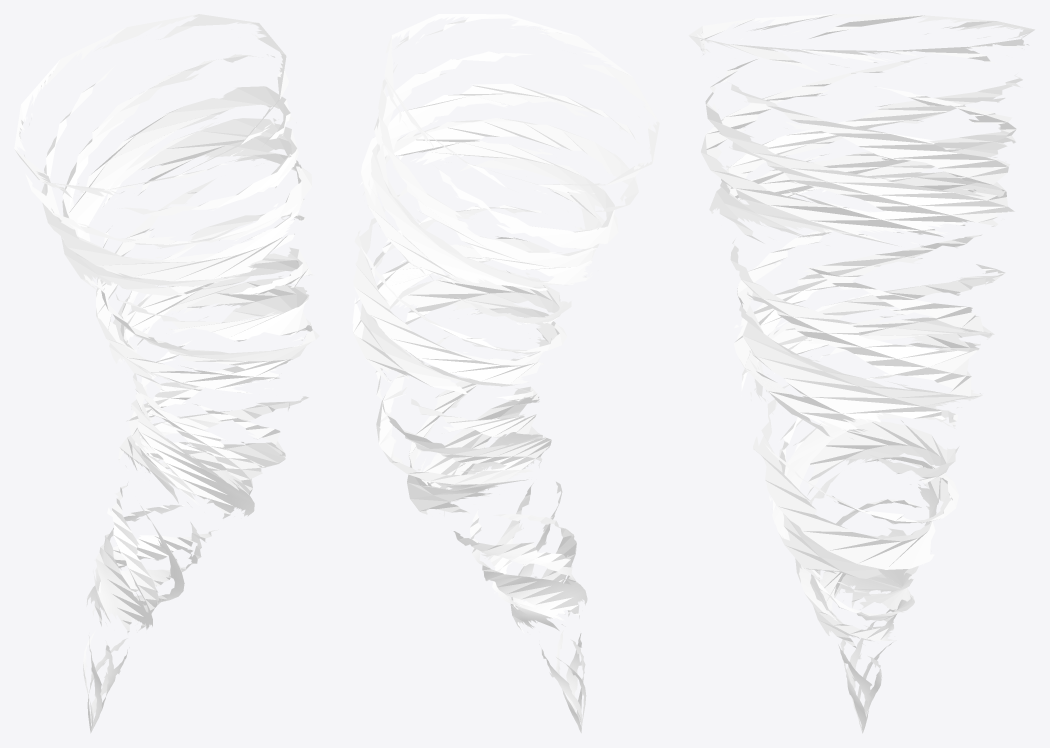
Rendered from espiral.glb.
3 views of the same model, side by side, from view 1: azimuth 30°, elevation 25°; view 2: azimuth 150°, elevation 25°; view 3: azimuth 270°, elevation 25° (orthographic). The views are drawn at different scales.
Visible parts, largest first — view 1: Object_4; view 2: Object_4; view 3: Object_4.
Boxes of the visible parts, <box> form: Object_4: <box>14,14,319,733</box>; Object_4: <box>352,14,659,733</box>; Object_4: <box>688,14,1034,733</box>.
Bounding box in the file's own units: 1.23 × 2.83 × 1.13.
Materials: 1 (1 with a texture image).
